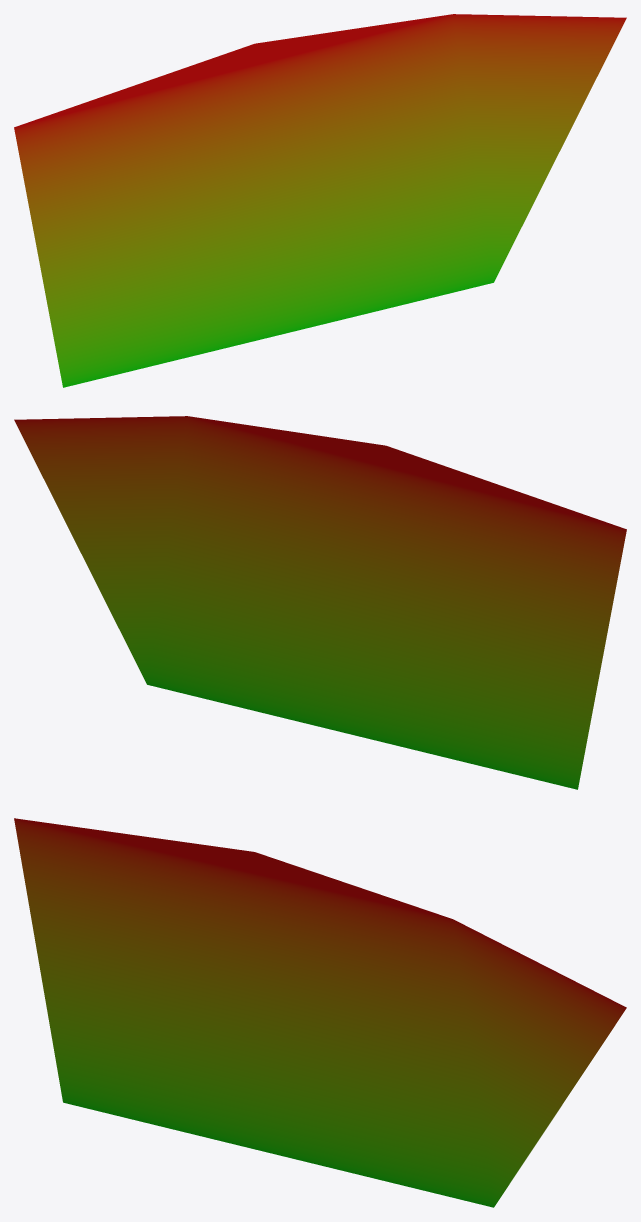
File: Var4_LOD3.fbx
3 views of the same model, one above another, from view 1: azimuth 30°, elevation 25°; view 2: azimuth 150°, elevation 25°; view 3: azimuth 330°, elevation 25° (orthographic).
Visible parts, largest first — view 1: _fb06_Var4_LOD3; view 2: _fb06_Var4_LOD3; view 3: _fb06_Var4_LOD3.
Part boxes in pixels (left/top/right/bottom): _fb06_Var4_LOD3: left=14, top=14, right=626, bottom=387; _fb06_Var4_LOD3: left=14, top=416, right=626, bottom=789; _fb06_Var4_LOD3: left=14, top=818, right=626, bottom=1207.
Bounding box in the file's own units: 16.9 × 7.83 × 3.73e-07.
